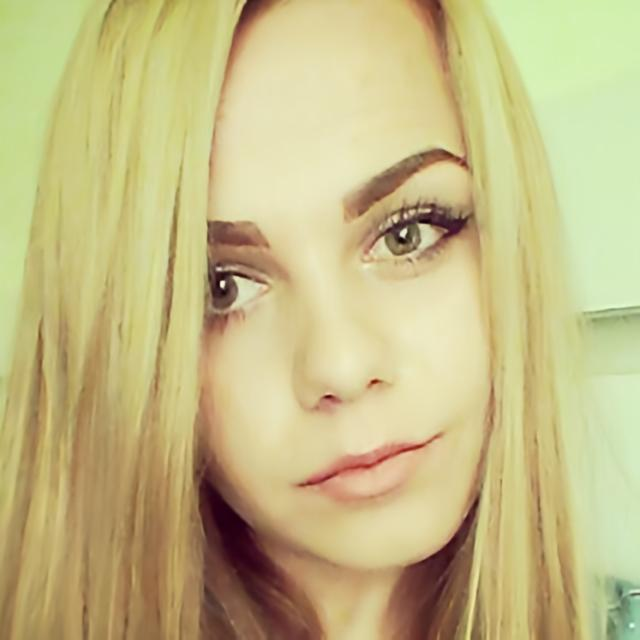content: (196, 0, 495, 577)
